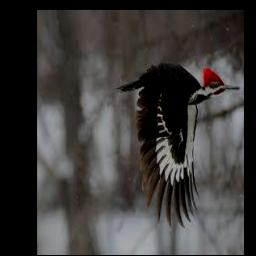Woodpecker: (117, 64, 241, 225)
